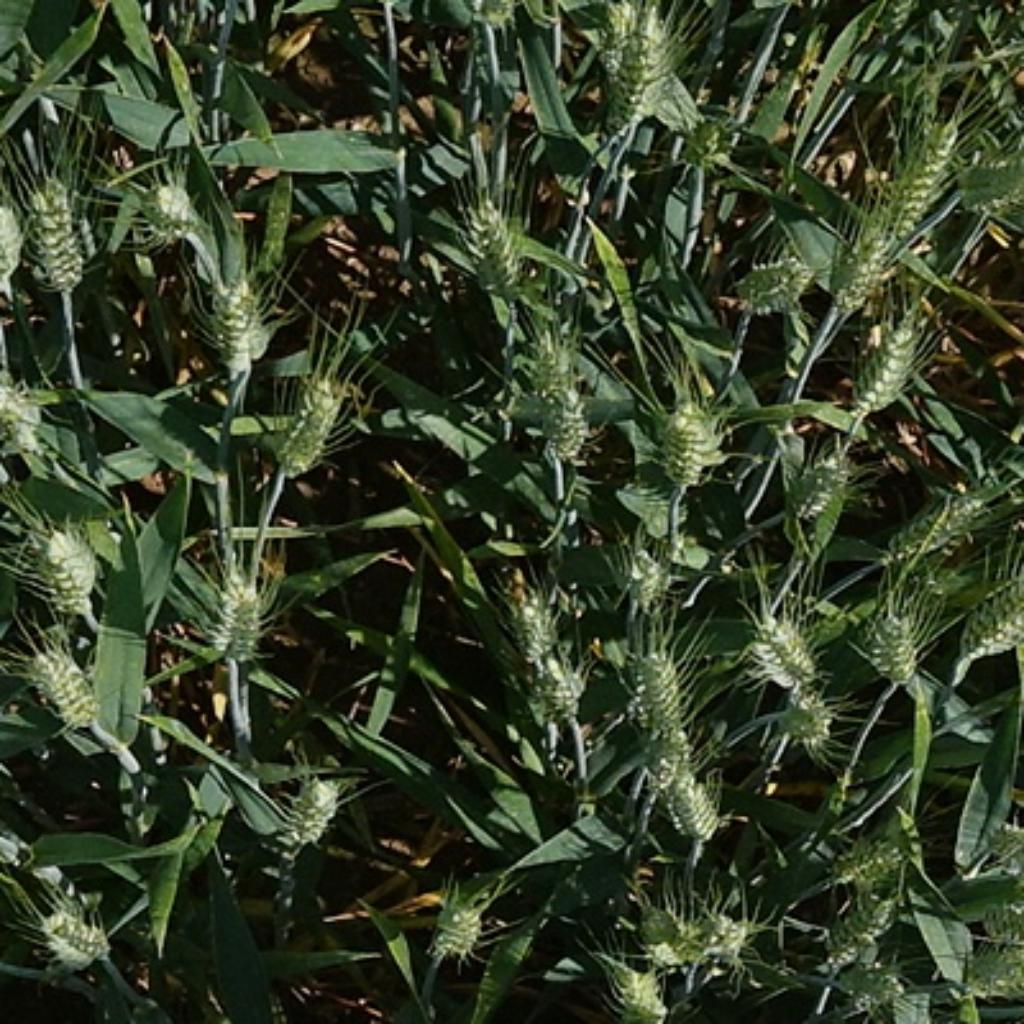0-0: (634, 716, 727, 844), (513, 332, 597, 463), (867, 112, 954, 238), (629, 893, 760, 972), (847, 302, 931, 419), (640, 386, 732, 491), (821, 814, 921, 906), (824, 197, 903, 309), (614, 637, 688, 755), (277, 369, 350, 483), (20, 176, 89, 296), (494, 578, 570, 686), (15, 517, 97, 614), (737, 606, 824, 693), (773, 436, 860, 523), (952, 558, 1024, 663), (878, 495, 981, 568), (605, 15, 659, 147), (199, 275, 274, 370), (819, 890, 911, 967), (514, 637, 588, 729), (22, 646, 105, 727), (855, 599, 926, 688), (729, 243, 814, 317), (824, 947, 911, 1018), (601, 529, 678, 609), (201, 576, 269, 666), (271, 773, 341, 858), (32, 896, 115, 967), (461, 192, 525, 284), (424, 890, 491, 971), (957, 148, 1022, 222), (137, 178, 207, 245), (0, 380, 56, 463), (606, 960, 675, 1024), (772, 692, 840, 756), (958, 947, 1024, 1004), (970, 890, 1024, 954), (0, 199, 34, 299)
